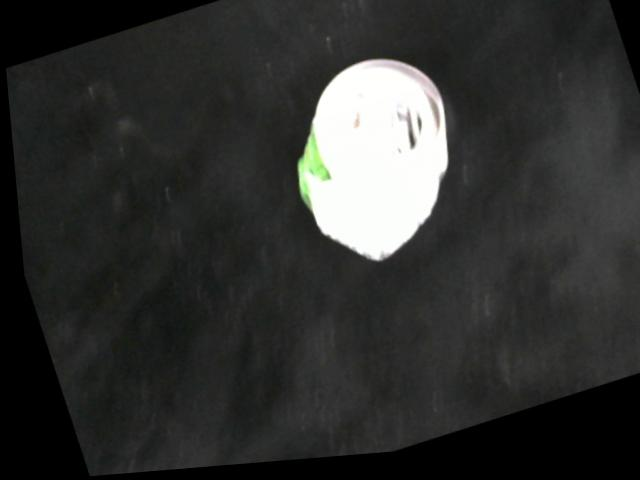can: (290, 51, 454, 278)
